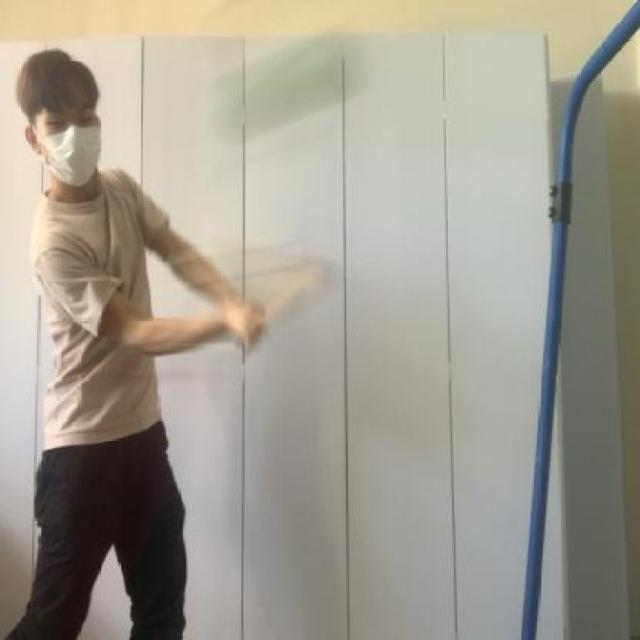baseball: (216, 34, 359, 148)
